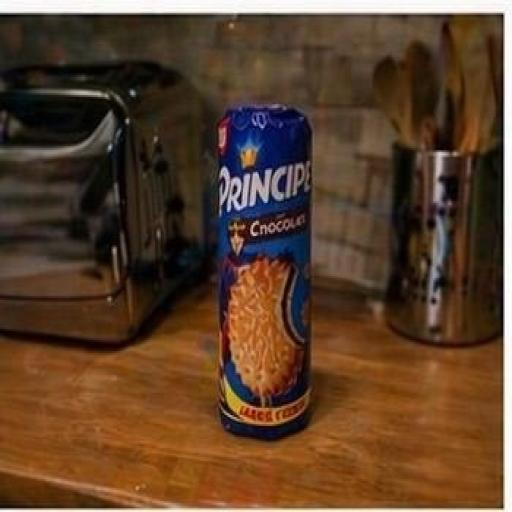prince: (172, 88, 407, 402)
